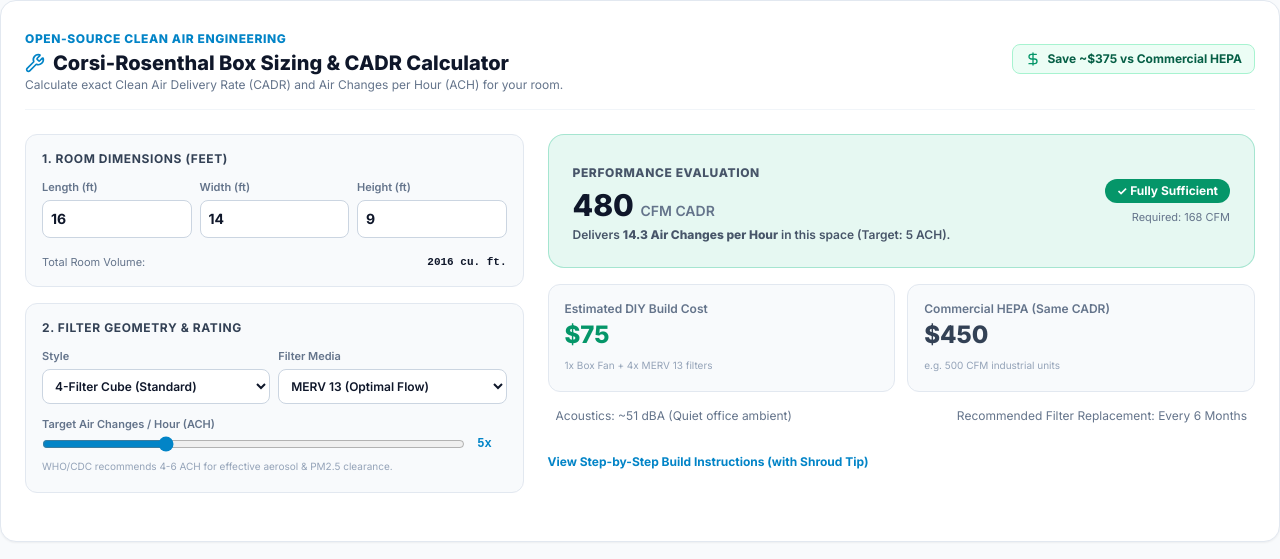
CorsiRosenthalCalculator Component › switches to 5-Filter Compactor and updates CADR to 530 CFM
Select "5-Filter Compactor (High Flow)" in the dropdown labelled "Style": (156, 386) [42,368,270,404]
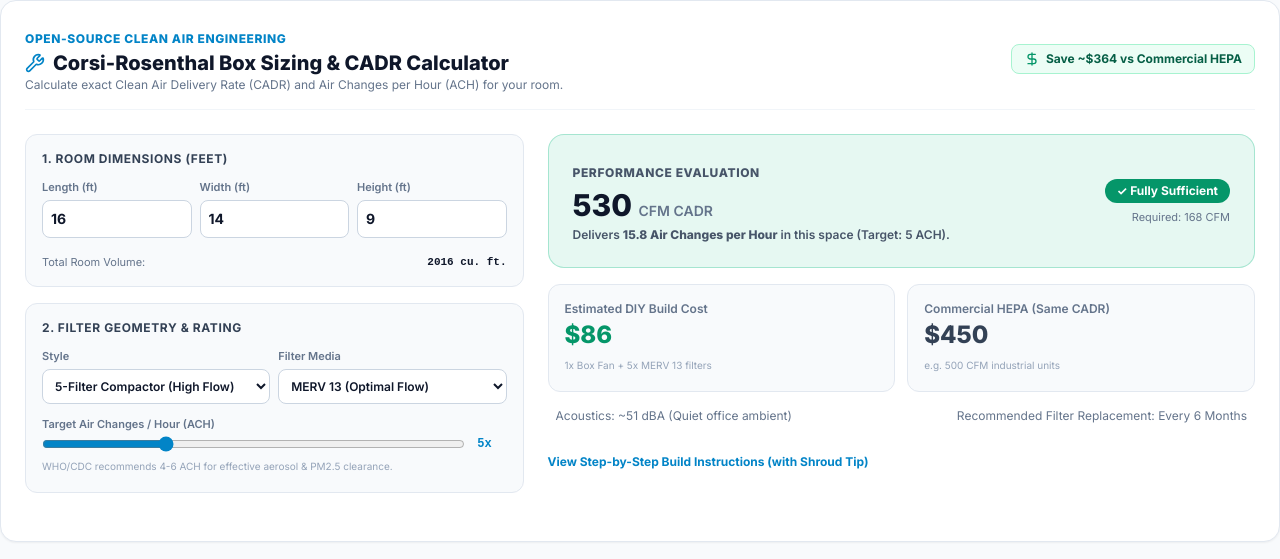
Now the text "530" is shown, box [572,187,632,223]
Now the text "1x Box Fan + 5x MERV 13 filters" is shown, box [564,359,712,371]
